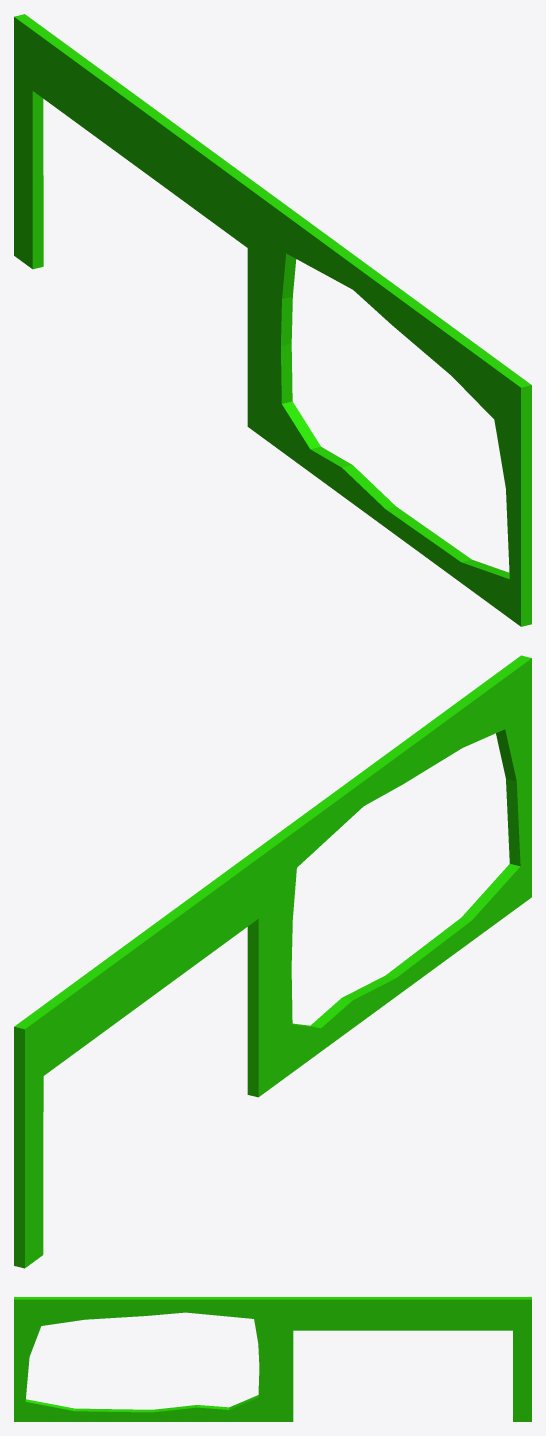
File: BH04B_Wall_01_Break_Collider.fbx
3 views of the same model, one above another, from view 1: azimuth 30°, elevation 25°; view 2: azimuth 150°, elevation 25°; view 3: azimuth 270°, elevation 25° (orthographic). The views are drawn at different scales.
Visible parts, largest first — view 1: BH04B_Wall_01_Break_Collider; view 2: BH04B_Wall_01_Break_Collider; view 3: BH04B_Wall_01_Break_Collider.
Part boxes in pixels (box(x1,y1,x2,y2)): BH04B_Wall_01_Break_Collider: box(14, 14, 531, 626); BH04B_Wall_01_Break_Collider: box(14, 655, 531, 1268); BH04B_Wall_01_Break_Collider: box(14, 1297, 531, 1421).
Bounding box in the file's own units: 14.4 × 300 × 1153.
